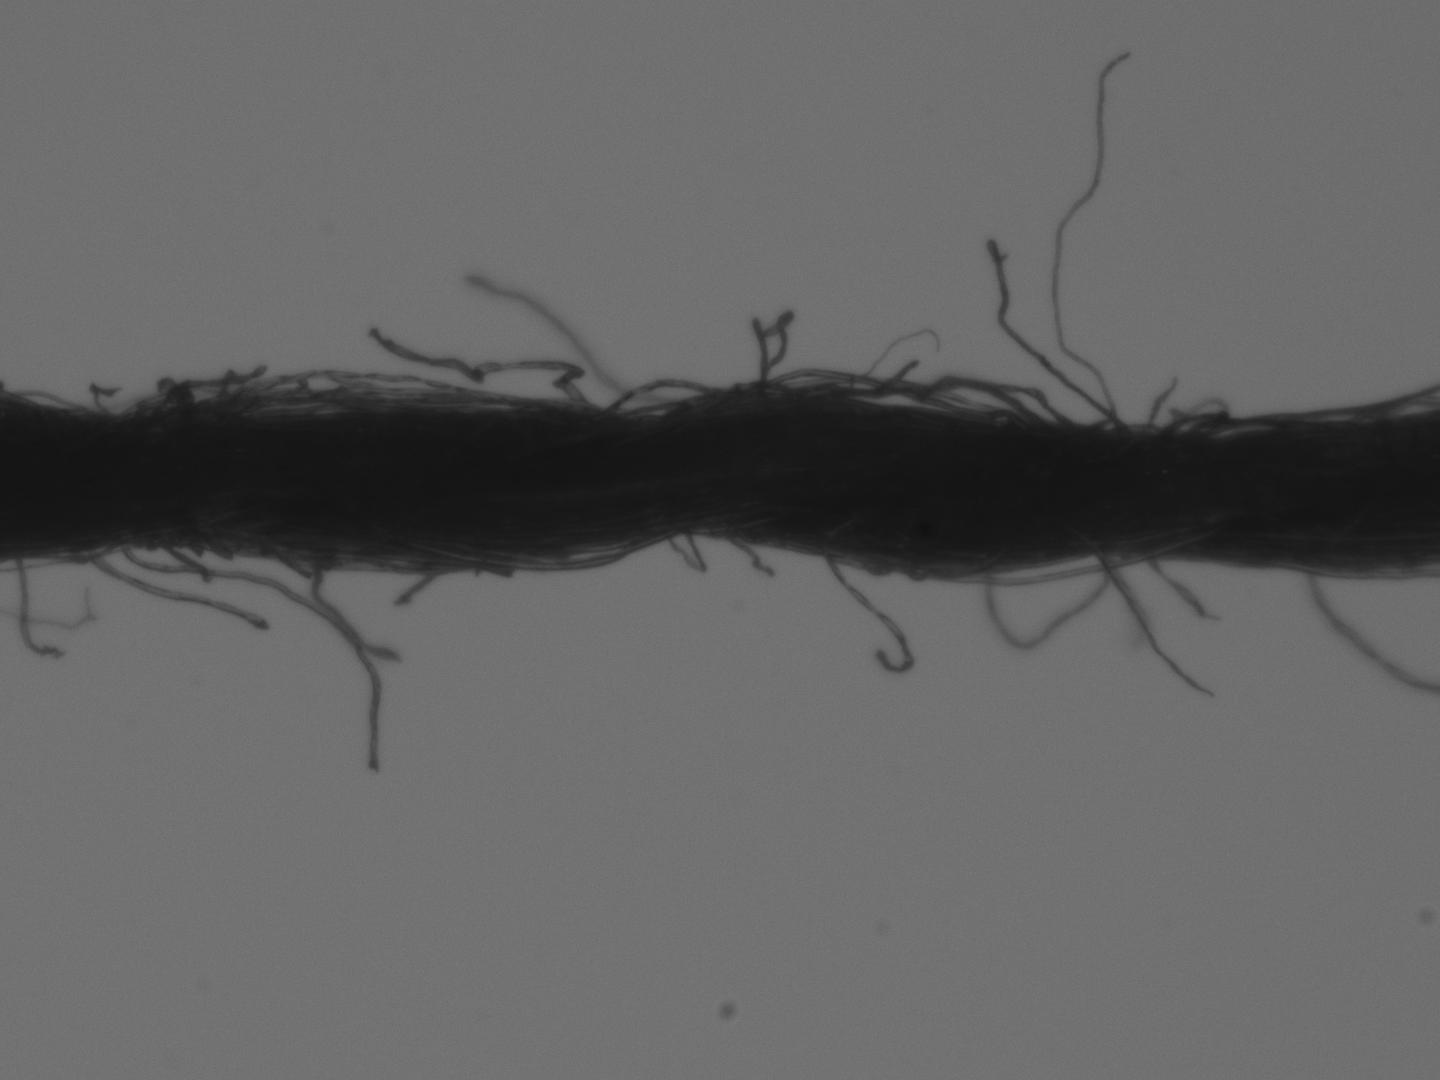loop_fiber: (590, 305, 1096, 442), (854, 515, 1245, 658), (109, 363, 549, 429), (1161, 395, 1233, 436), (666, 530, 705, 574)
protruding_fiber: (983, 228, 1143, 439), (67, 538, 276, 639), (825, 554, 914, 678)
